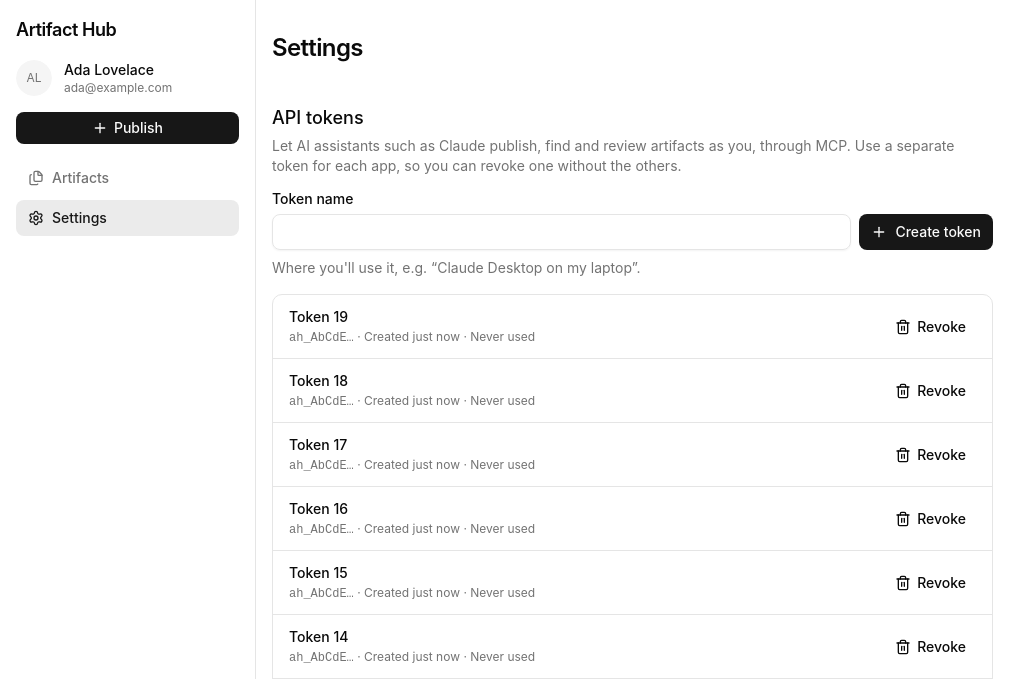
Test: Settings page › shows why a token could not be created
Type "One more" into the field labelled "Token name".
click(562, 232); type("One more")  # box [272, 214, 851, 250]
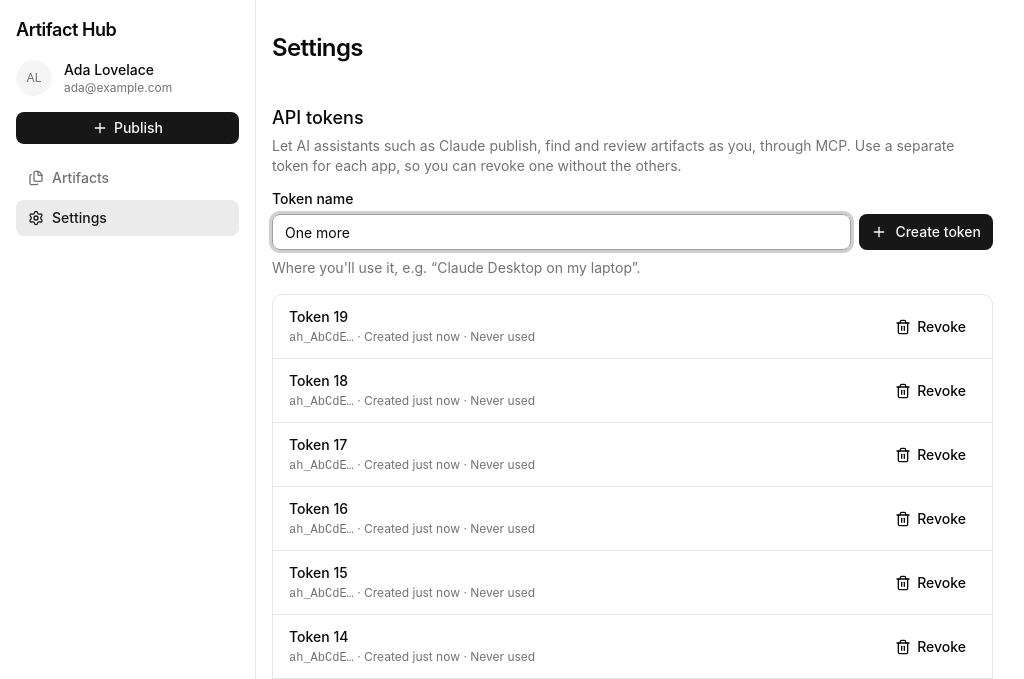
Click the button "Create token".
click(926, 232)  # box [859, 214, 993, 250]
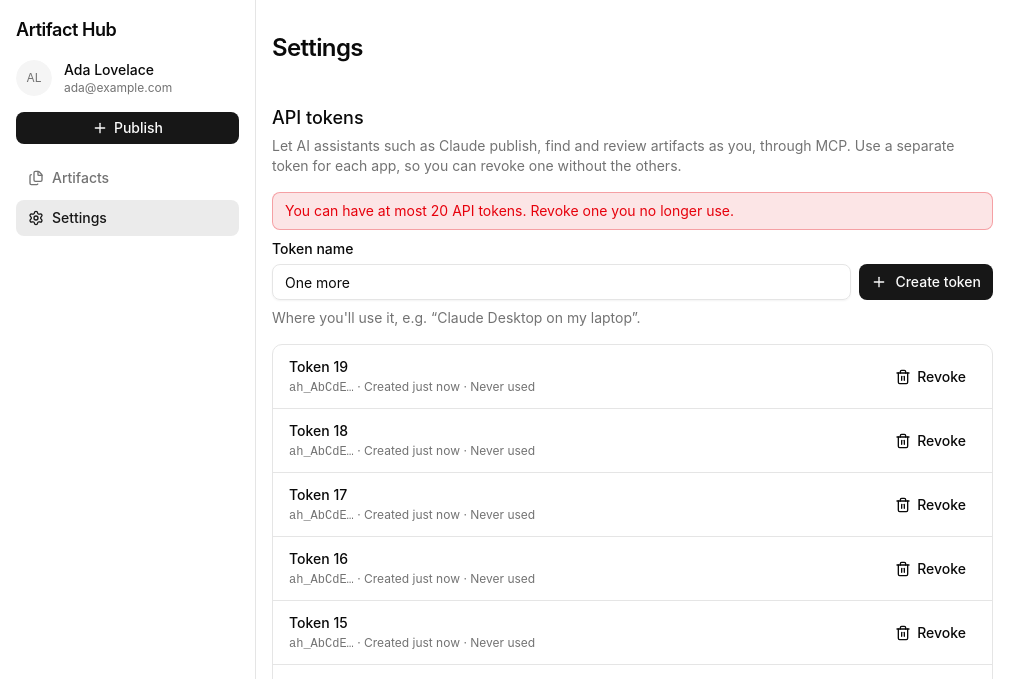
Expected: the message shows "at most 20 API tokens", [285, 202, 734, 219]
